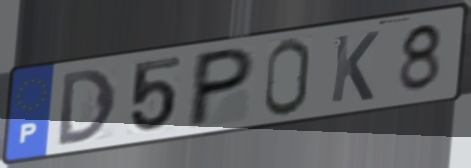0: (262, 36, 313, 120)
5: (129, 55, 186, 135)
8: (395, 21, 443, 95)
D: (56, 65, 119, 149)
K: (327, 28, 382, 106)
P: (183, 44, 259, 133)
